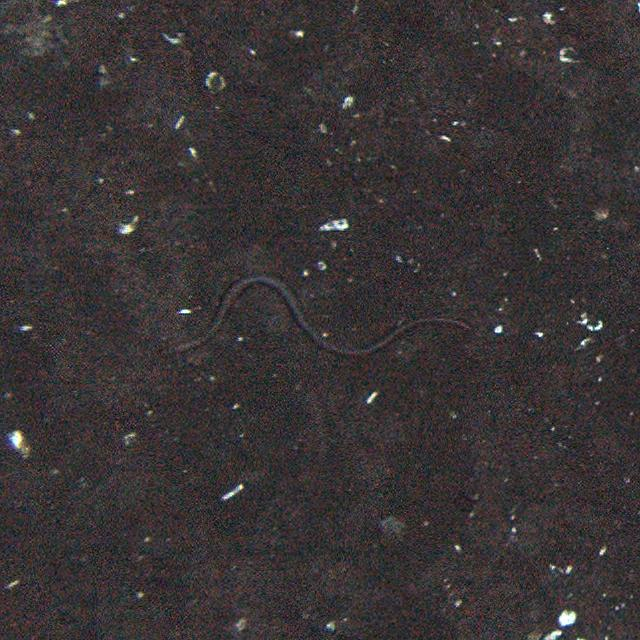eel: (160, 276, 476, 362)
